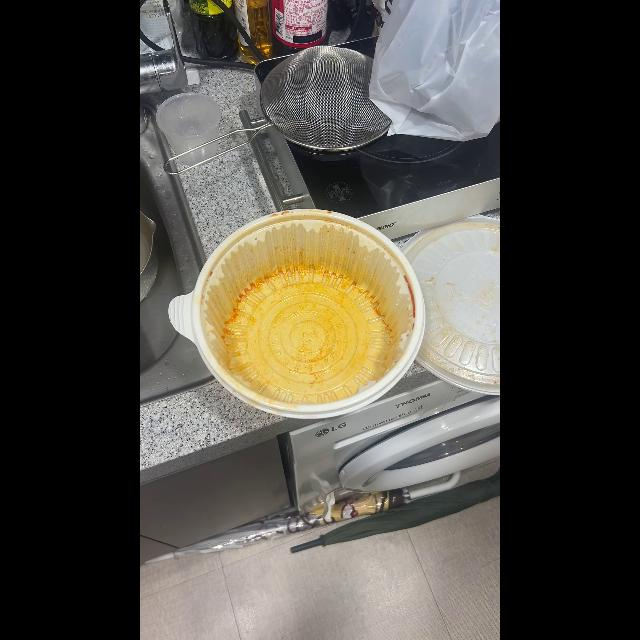dirty: (196, 213, 422, 411)
